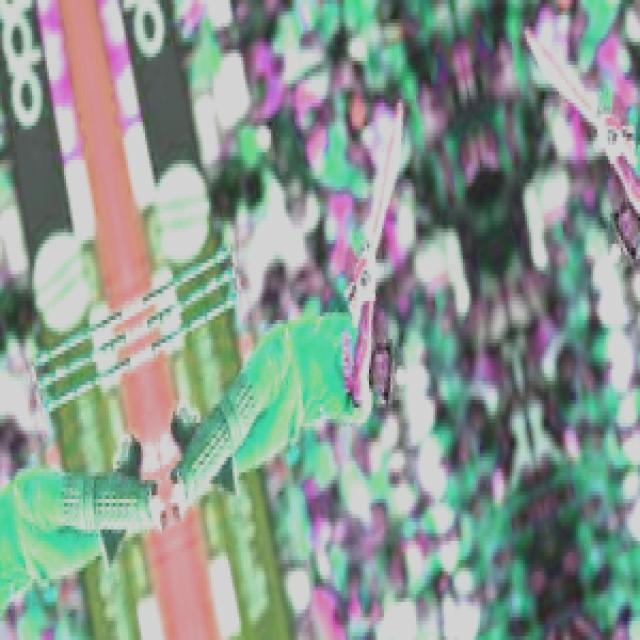toe: (393, 89, 406, 140)
